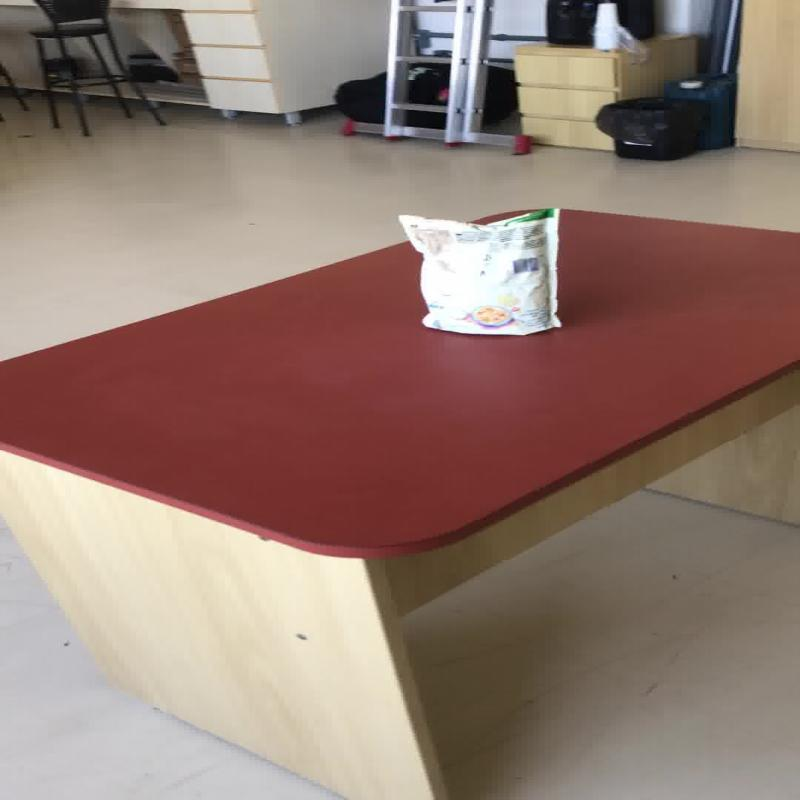corn flakes: (396, 206, 561, 336)
